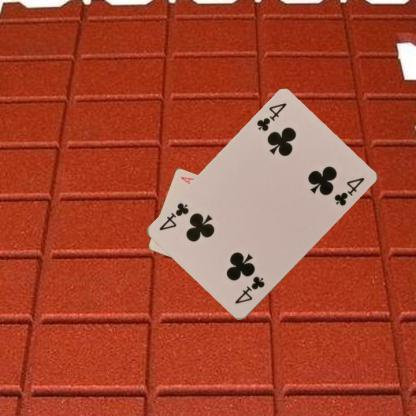4c: (254, 100, 288, 134), (232, 273, 266, 306)
